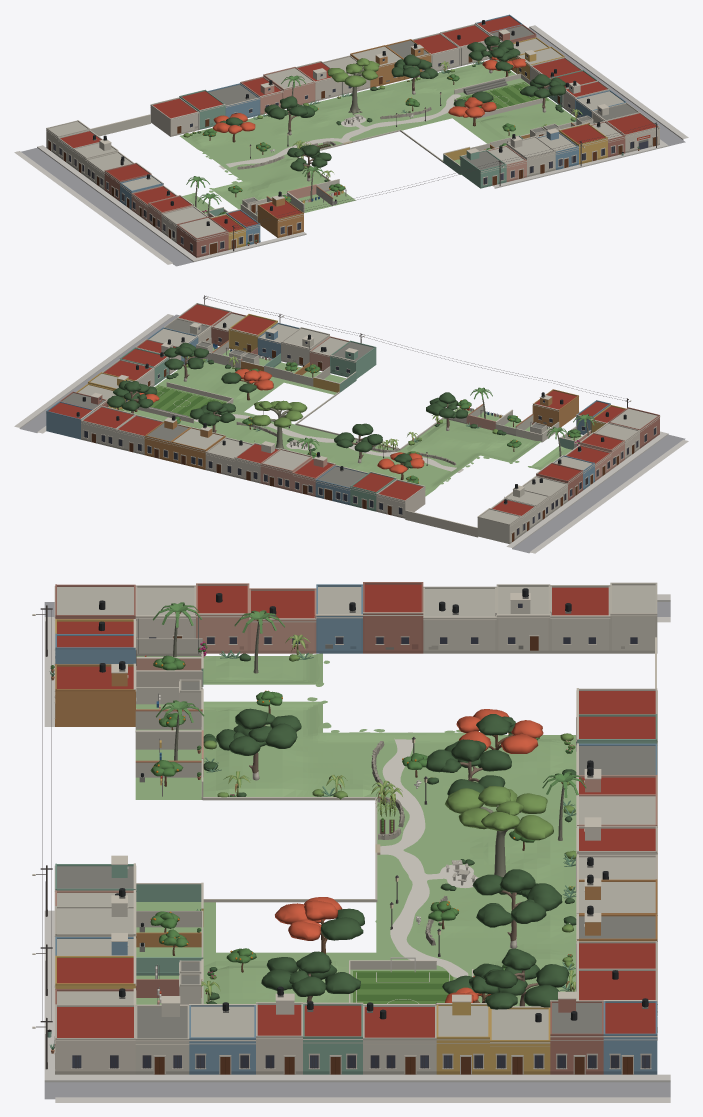
File: barrio_manzana.glb
3 views of the same model, one above another, from view 1: azimuth 30°, elevation 25°; view 2: azimuth 150°, elevation 25°; view 3: azimuth 270°, elevation 25° (orthographic). The views are drawn at different scales.
Parts seen in each view (by area): view 1: manzana_fachadas, manzana_pasto_c, manzana_laurel_copa, manzana_banqueta, manzana_arroyo, manzana_pasto, manzana_flamboyan_copa, manzana_sendero, manzana_herreria, manzana_ceiba_copa, manzana_naranjo_copa, manzana_palma_copa; view 2: manzana_fachadas, manzana_pasto_c, manzana_laurel_copa, manzana_arroyo, manzana_banqueta, manzana_pasto, manzana_flamboyan_copa, manzana_ceiba_copa, manzana_naranjo_copa, manzana_sendero, manzana_herreria, manzana_palma_copa; view 3: manzana_fachadas, manzana_pasto_c, manzana_laurel_copa, manzana_banqueta, manzana_arroyo, manzana_pasto, manzana_sendero, manzana_ceiba_copa, manzana_flamboyan_copa, manzana_naranjo_copa, manzana_herreria, manzana_palma_copa (+1 smaller).
Part boxes in pixels (x1,y1,x2,y2): manzana_fachadas: (46, 14, 660, 257); manzana_pasto_c: (179, 60, 573, 215); manzana_laurel_copa: (218, 36, 565, 181); manzana_banqueta: (14, 25, 688, 264); manzana_arroyo: (21, 27, 685, 266); manzana_pasto: (183, 95, 446, 201); manzana_flamboyan_copa: (212, 56, 526, 133); manzana_sendero: (219, 94, 460, 169); manzana_herreria: (53, 92, 657, 252); manzana_ceiba_copa: (183, 58, 575, 168); manzana_naranjo_copa: (202, 74, 515, 215); manzana_palma_copa: (186, 75, 324, 205); manzana_fachadas: (46, 295, 660, 543); manzana_pasto_c: (123, 347, 581, 496); manzana_laurel_copa: (106, 342, 506, 469); manzana_arroyo: (20, 314, 685, 553); manzana_banqueta: (14, 314, 688, 553); manzana_pasto: (215, 421, 544, 485); manzana_flamboyan_copa: (139, 369, 424, 473); manzana_ceiba_copa: (186, 358, 497, 445); manzana_naranjo_copa: (175, 362, 580, 483); manzana_sendero: (194, 414, 463, 472); manzana_herreria: (203, 296, 655, 535); manzana_palma_copa: (296, 387, 596, 449); manzana_fachadas: (32, 582, 657, 1074); manzana_pasto_c: (135, 653, 576, 1006); manzana_laurel_copa: (203, 653, 576, 1009); manzana_banqueta: (44, 594, 670, 1102); manzana_arroyo: (44, 602, 670, 1099); manzana_pasto: (295, 653, 504, 963); manzana_sendero: (380, 732, 478, 977); manzana_ceiba_copa: (203, 654, 576, 967); manzana_flamboyan_copa: (275, 709, 543, 1002); manzana_naranjo_copa: (150, 655, 539, 970); manzana_herreria: (40, 608, 649, 1068); manzana_palma_copa: (153, 602, 586, 797).
Bounding box in the file's own units: 180 × 16.78 × 95.45.
